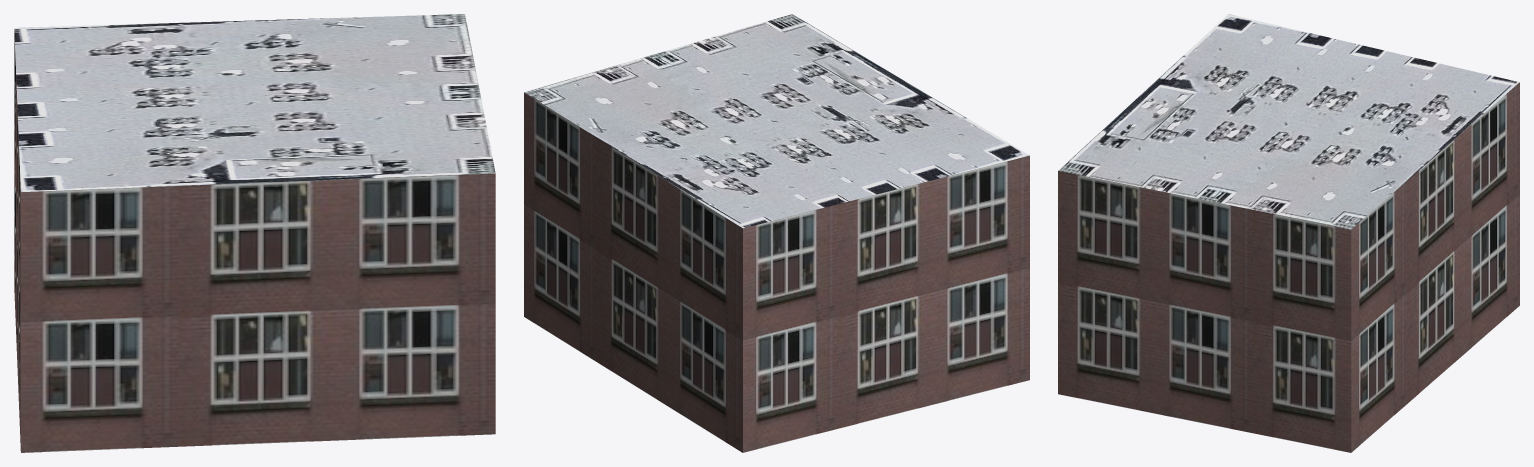
The model's file is ResTex__4215.fbx.
The picture shows the model from 3 angles, left to right: view 1: azimuth 30°, elevation 25°; view 2: azimuth 150°, elevation 25°; view 3: azimuth 270°, elevation 25°; orthographic projection. The views are drawn at different scales.
Parts seen in each view (by area): view 1: CityEngineMaterial_12_m, CityEngineMaterial_2_m; view 2: CityEngineMaterial_12_m, CityEngineMaterial_2_m; view 3: CityEngineMaterial_12_m, CityEngineMaterial_2_m.
Boxes of the visible parts, x1,y1,x2,y2 form: CityEngineMaterial_12_m: (14,32,495,452); CityEngineMaterial_2_m: (14,14,495,192); CityEngineMaterial_12_m: (524,92,1029,452); CityEngineMaterial_2_m: (524,14,1029,228); CityEngineMaterial_12_m: (1058,82,1519,452); CityEngineMaterial_2_m: (1058,14,1519,229).
Size of the model in its own units: 12.42 by 6 by 11.24.
Materials: 2 (2 with a texture image).
